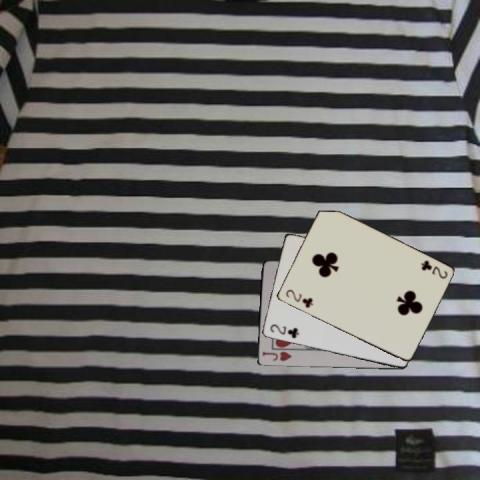2c: (418, 257, 449, 280), (282, 287, 314, 309), (267, 321, 300, 340)
Jh: (259, 348, 293, 362)
